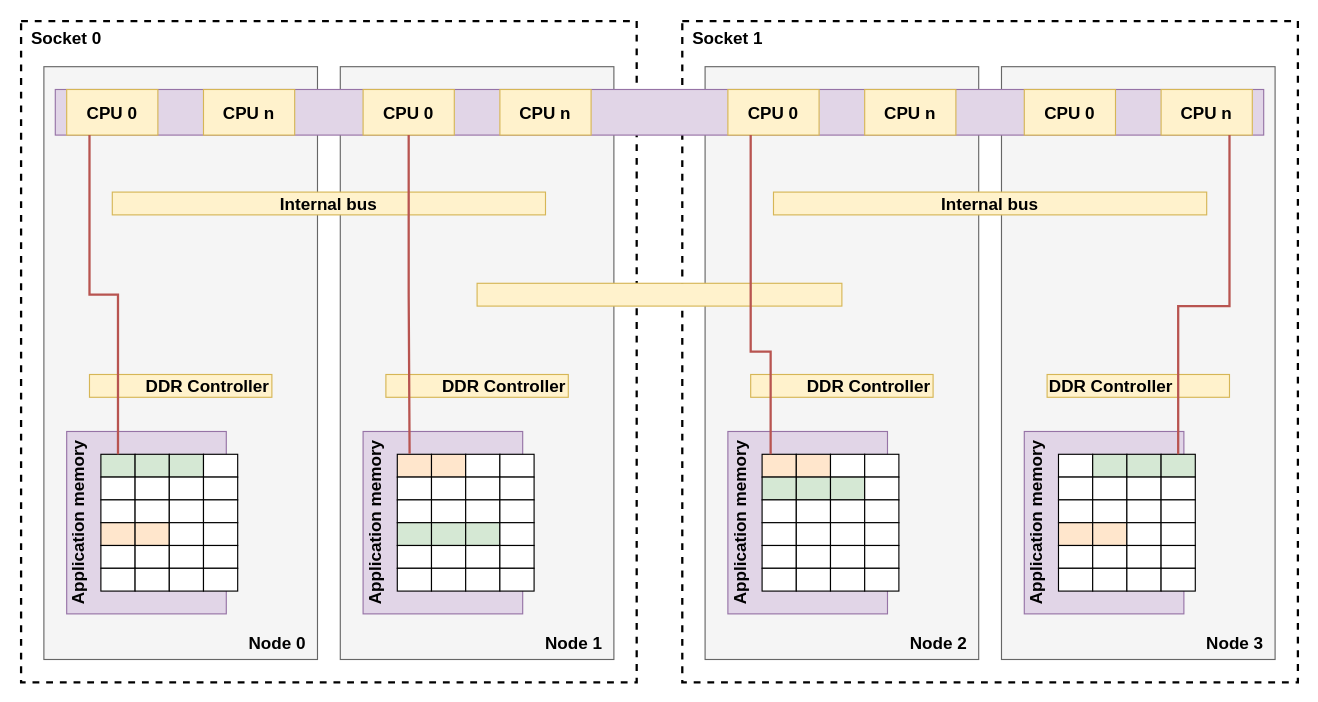
Image size: 1318x702. Some labels were removed from this diagram. Here are the shapes that lost their labels. From the top down, the box of each, then its label:
(54, 88, 1264, 135): App
(476, 282, 842, 306): Interconnect
